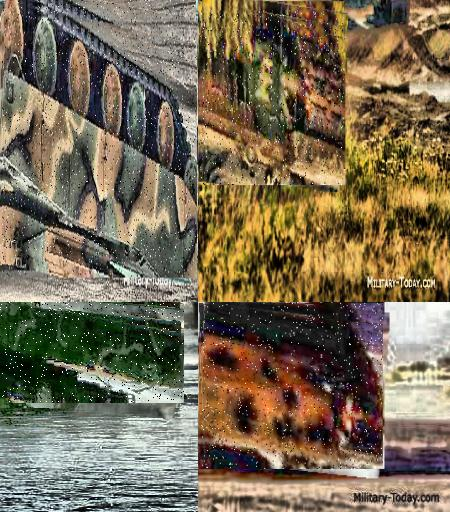tanks: (3, 2, 197, 278), (202, 304, 384, 470), (201, 12, 346, 186), (1, 303, 185, 403), (298, 1, 411, 25)
